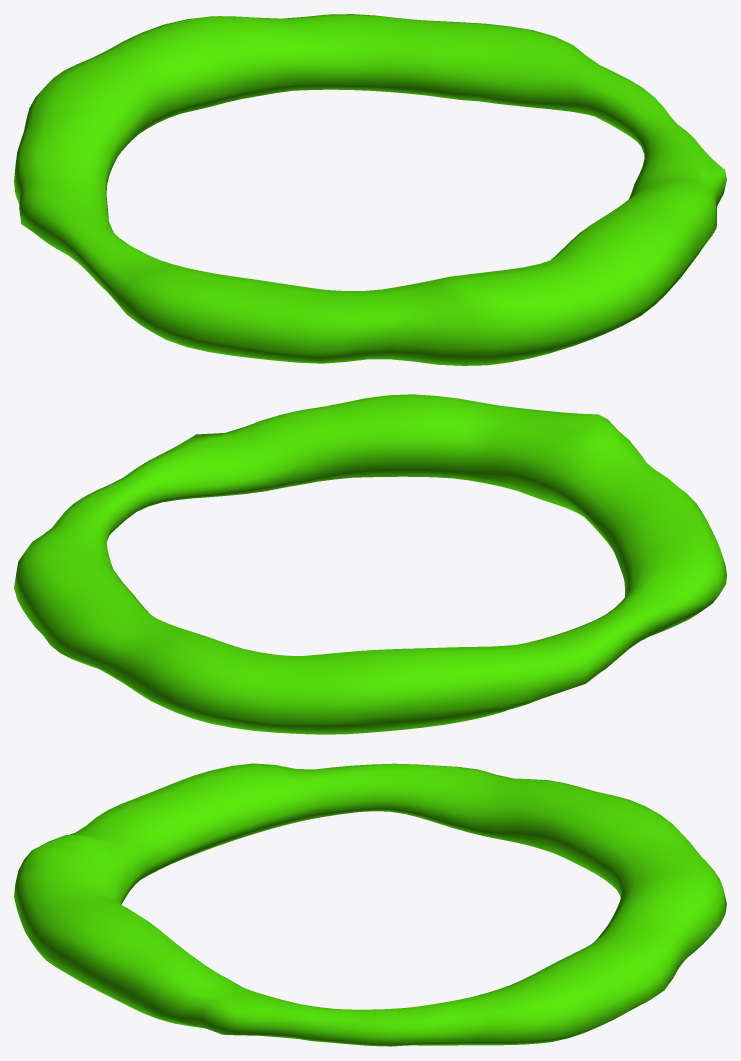
The model's file is p_mesh_trashbot_exploding_waves.fbx.
3 renders of one model, top to bottom at view 1: azimuth 30°, elevation 25°; view 2: azimuth 150°, elevation 25°; view 3: azimuth 270°, elevation 25°, orthographic. The views are drawn at different scales.
Visible parts, largest first — view 1: Retopo_Slimewave; view 2: Retopo_Slimewave; view 3: Retopo_Slimewave.
Part boxes in pixels (box(x1,y1,x2,y2)): Retopo_Slimewave: box(14, 14, 726, 365); Retopo_Slimewave: box(14, 394, 726, 734); Retopo_Slimewave: box(14, 763, 726, 1046).
Size of the model in its own units: 26.38 by 3.18 by 30.23.
